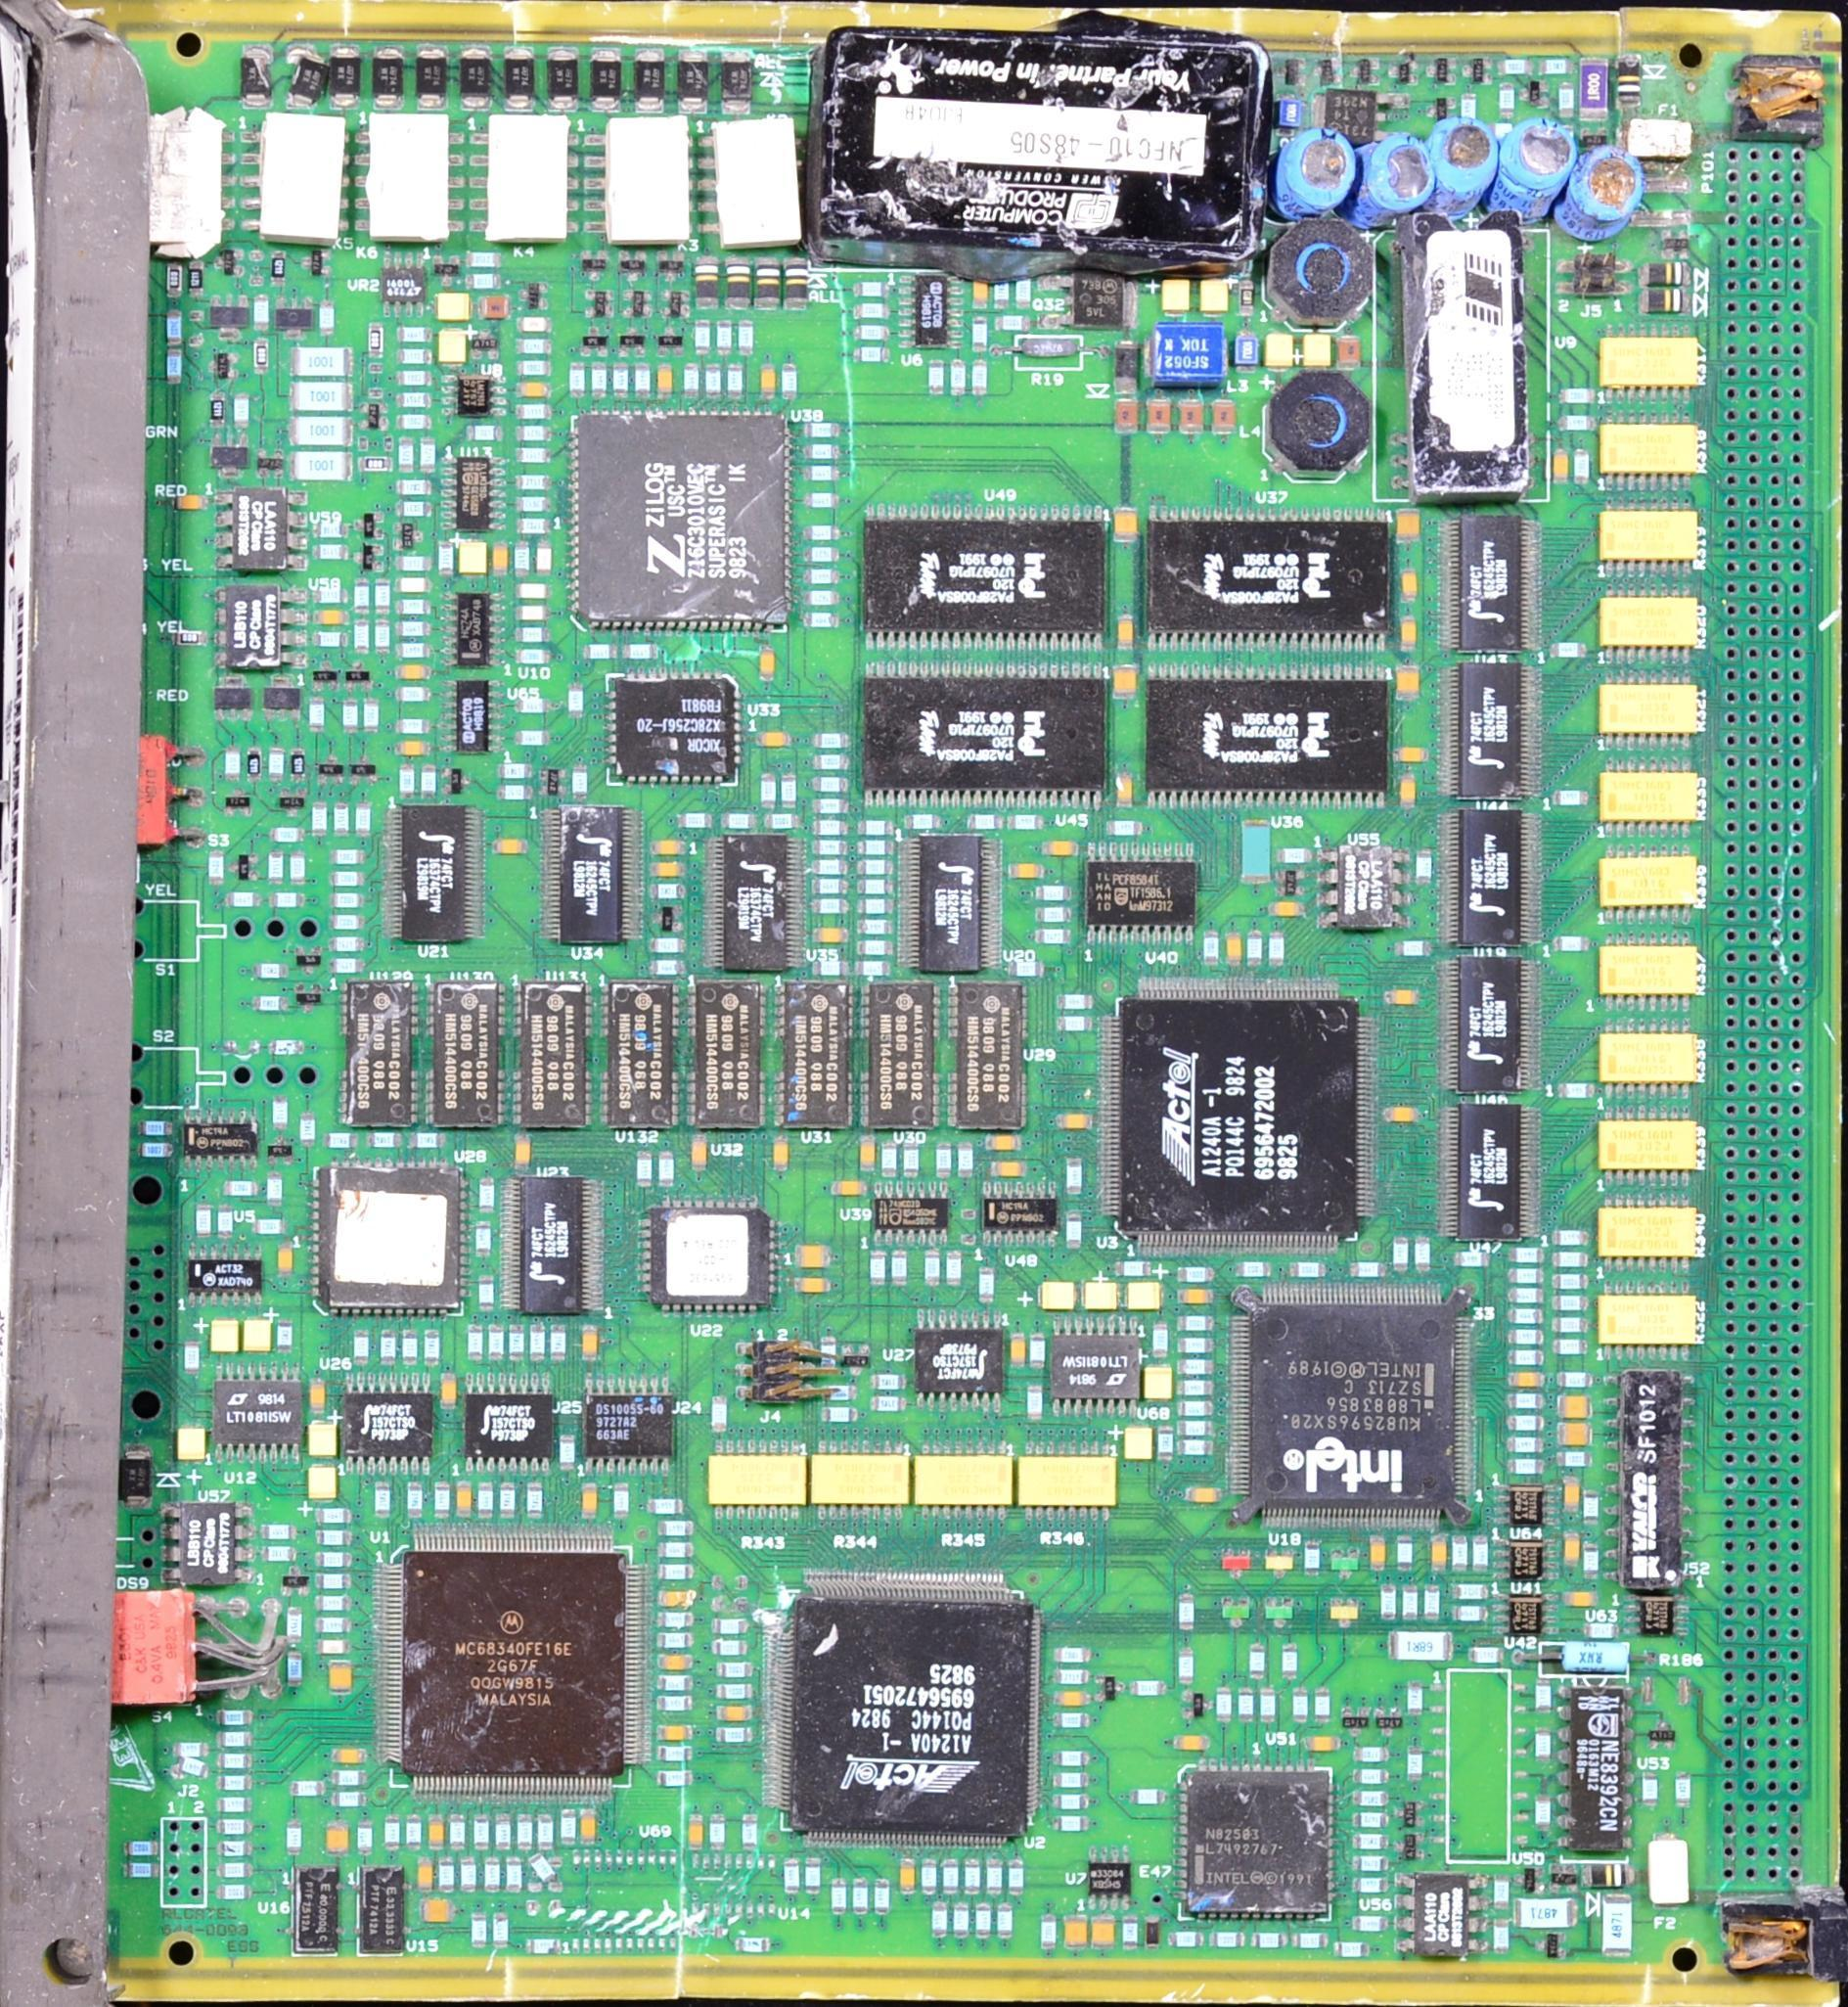Capacitor: (1180, 401, 1200, 431), (1149, 402, 1170, 432), (1065, 1915, 1083, 1948), (1399, 664, 1417, 698), (1114, 510, 1135, 537), (1174, 1285, 1206, 1301), (1402, 570, 1418, 603), (1212, 402, 1229, 432), (1512, 1371, 1540, 1388), (426, 1900, 449, 1919), (1338, 342, 1357, 365), (1093, 1919, 1110, 1945), (1398, 512, 1415, 540), (1562, 1425, 1586, 1443), (308, 1382, 326, 1406), (1118, 670, 1134, 696), (484, 300, 505, 320), (803, 1249, 825, 1265), (1429, 1543, 1448, 1567), (1222, 934, 1237, 961), (1059, 1690, 1084, 1706), (1555, 448, 1566, 479), (279, 1246, 292, 1273), (580, 1330, 594, 1356), (688, 1820, 700, 1846), (1119, 402, 1133, 429), (759, 368, 772, 397), (399, 664, 422, 680), (695, 1137, 706, 1164), (454, 1484, 468, 1512), (1178, 1737, 1207, 1750), (586, 1484, 597, 1516), (1193, 1488, 1218, 1500), (905, 1859, 914, 1894), (1403, 781, 1414, 808), (1391, 1111, 1415, 1123), (1561, 1400, 1584, 1415), (1370, 1540, 1382, 1564), (519, 382, 542, 395), (1403, 622, 1417, 646), (1119, 779, 1134, 799), (777, 1140, 789, 1164), (443, 1377, 455, 1401), (718, 1707, 744, 1718), (498, 842, 523, 852), (988, 1139, 1016, 1150), (180, 495, 202, 509), (762, 652, 773, 680), (837, 1180, 860, 1193), (337, 1666, 347, 1688), (581, 1816, 593, 1839), (330, 1825, 343, 1848), (493, 547, 505, 570), (762, 731, 785, 743), (1574, 1594, 1600, 1605), (1051, 842, 1069, 854), (1059, 1118, 1088, 1127), (1389, 992, 1415, 1004), (1002, 1161, 1022, 1173), (1014, 865, 1039, 876), (818, 929, 838, 940), (431, 1817, 440, 1845), (1013, 1341, 1022, 1364), (337, 1751, 358, 1760), (973, 283, 984, 306), (666, 1657, 685, 1669), (404, 743, 423, 754), (1565, 1488, 1576, 1509), (667, 1590, 690, 1602), (663, 1728, 684, 1738), (860, 1143, 870, 1168), (1308, 1738, 1332, 1747), (419, 1861, 427, 1886), (658, 365, 668, 389), (803, 1279, 822, 1290), (518, 1137, 528, 1160), (1567, 1541, 1576, 1565), (1122, 618, 1131, 642), (1400, 752, 1423, 760), (323, 613, 339, 624), (1277, 906, 1295, 914), (660, 864, 674, 874), (663, 843, 677, 851)
IC: (1117, 1002, 1357, 1239), (799, 1599, 1019, 1835), (400, 1544, 620, 1777), (1248, 1301, 1455, 1512), (576, 417, 782, 623), (1396, 222, 1528, 498), (864, 660, 1104, 790), (1146, 516, 1383, 636), (1151, 678, 1388, 792), (864, 521, 1096, 634), (1188, 1772, 1323, 1910), (321, 1177, 457, 1302), (610, 679, 739, 787), (1623, 1371, 1677, 1585), (947, 982, 1021, 1125), (713, 837, 791, 967), (654, 1215, 758, 1300), (916, 840, 982, 970), (780, 982, 841, 1124), (1452, 1112, 1522, 1232), (693, 981, 752, 1126), (1462, 660, 1521, 801), (863, 986, 924, 1118), (403, 806, 464, 939), (349, 980, 408, 1116), (1457, 964, 1519, 1087), (610, 983, 664, 1126), (441, 983, 494, 1120), (1459, 519, 1517, 643), (562, 810, 621, 934), (1462, 814, 1521, 939), (527, 986, 581, 1126), (523, 1178, 578, 1309), (1576, 1686, 1620, 1840), (1090, 864, 1188, 922), (1051, 1335, 1137, 1396), (917, 1325, 999, 1391), (215, 1381, 296, 1441), (467, 1395, 546, 1456), (176, 1502, 239, 1576), (344, 1394, 422, 1454), (585, 1397, 665, 1454), (1338, 852, 1395, 926), (1416, 1875, 1465, 1953), (236, 493, 286, 567), (232, 592, 280, 663), (293, 1872, 332, 1953), (362, 1873, 400, 1949), (456, 593, 491, 664), (876, 1200, 943, 1232), (457, 685, 489, 750), (921, 274, 951, 341), (460, 456, 485, 525), (455, 376, 493, 414), (986, 1205, 1050, 1228), (1642, 1599, 1675, 1636), (1510, 1540, 1538, 1578), (1091, 1865, 1128, 1894), (1511, 1484, 1540, 1522), (389, 273, 419, 296)
Resistor: (706, 1452, 813, 1504), (1600, 595, 1694, 645), (1599, 427, 1697, 474), (917, 1452, 1011, 1501), (818, 1456, 911, 1506), (1598, 776, 1694, 821), (1602, 684, 1693, 730), (1600, 943, 1692, 990), (1603, 1124, 1692, 1169), (1020, 1459, 1112, 1504), (1600, 1301, 1694, 1343), (1607, 515, 1700, 556), (1600, 342, 1694, 384), (1600, 1037, 1694, 1075), (1600, 864, 1692, 902), (1602, 1209, 1687, 1251), (1240, 826, 1272, 875), (1018, 338, 1069, 361), (1513, 1599, 1536, 1634), (470, 246, 499, 271), (470, 422, 500, 438), (396, 764, 412, 796), (1067, 1158, 1081, 1192), (436, 542, 453, 572), (1179, 1263, 1212, 1278), (472, 1225, 489, 1252), (126, 1842, 154, 1856), (975, 1901, 989, 1934), (519, 627, 547, 643), (1245, 935, 1261, 963), (1161, 1426, 1174, 1462), (493, 1915, 505, 1949), (318, 300, 333, 331), (559, 1439, 575, 1465), (525, 1488, 540, 1514), (517, 1824, 532, 1850), (589, 365, 605, 392), (1267, 935, 1284, 962), (469, 1324, 480, 1357), (532, 1859, 551, 1879), (550, 1326, 563, 1353), (709, 1400, 723, 1429), (1581, 1495, 1595, 1523), (995, 1908, 1009, 1935), (949, 362, 963, 390), (725, 812, 754, 827), (969, 815, 996, 828), (1558, 87, 1573, 112), (479, 1178, 491, 1209), (1070, 1215, 1083, 1246), (476, 1488, 493, 1512), (719, 1638, 743, 1654), (971, 317, 984, 347), (721, 367, 737, 391), (654, 882, 678, 896), (1240, 1261, 1265, 1275), (1560, 1319, 1580, 1337), (1179, 1655, 1192, 1680), (1675, 1775, 1689, 1801), (804, 1863, 818, 1890), (615, 364, 627, 393), (394, 687, 426, 699), (421, 763, 434, 794), (574, 767, 585, 797), (1416, 850, 1428, 880), (1556, 939, 1586, 951), (1065, 990, 1087, 1006), (372, 1131, 394, 1147), (880, 1146, 894, 1173), (1561, 1453, 1589, 1466), (433, 1486, 447, 1510), (1425, 1591, 1439, 1615), (1181, 1597, 1193, 1624), (1281, 1649, 1293, 1672), (1356, 1745, 1380, 1758), (660, 1745, 685, 1759), (448, 1819, 462, 1845), (964, 1863, 976, 1892), (1495, 1879, 1507, 1908), (253, 296, 266, 326), (976, 364, 987, 391), (510, 543, 523, 572), (581, 647, 608, 659), (518, 698, 544, 711), (344, 702, 356, 729), (313, 802, 325, 831), (764, 815, 792, 827), (819, 823, 842, 837), (856, 964, 884, 976), (1006, 313, 1024, 330), (1285, 848, 1305, 865), (835, 1884, 846, 1914), (1496, 1923, 1507, 1954), (197, 1209, 208, 1237), (1415, 1240, 1427, 1265), (409, 1486, 421, 1513), (1472, 1542, 1485, 1568), (722, 1665, 748, 1677), (745, 1818, 757, 1844), (560, 1818, 572, 1844), (943, 1861, 954, 1889), (873, 1881, 884, 1907), (473, 1914, 485, 1941), (739, 1936, 764, 1948), (1038, 908, 1064, 919), (274, 1039, 296, 1052), (1559, 1375, 1583, 1388), (1135, 1682, 1157, 1696), (1061, 1753, 1084, 1765), (810, 423, 832, 436), (640, 1156, 650, 1185), (510, 1325, 520, 1354), (490, 1328, 500, 1358), (168, 311, 179, 342), (1106, 823, 1137, 835), (1562, 1086, 1587, 1098), (955, 1147, 968, 1171), (925, 1256, 937, 1281), (717, 1618, 741, 1629), (1262, 1691, 1275, 1715), (473, 1819, 486, 1844), (933, 1906, 946, 1931), (1575, 455, 1587, 479), (267, 751, 280, 775), (907, 1144, 918, 1171), (938, 1146, 949, 1173), (278, 1320, 288, 1347), (1183, 1404, 1211, 1414), (1306, 1546, 1320, 1567), (1588, 1624, 1615, 1635), (222, 1781, 250, 1792), (924, 1863, 936, 1892), (988, 1864, 999, 1892), (955, 1903, 966, 1932), (715, 327, 730, 348), (622, 646, 651, 656), (1555, 793, 1585, 802), (1403, 941, 1422, 955), (326, 1134, 347, 1147), (658, 1159, 672, 1182), (870, 1256, 881, 1279), (1354, 1264, 1376, 1276), (1186, 1316, 1208, 1329), (380, 1488, 392, 1510), (1460, 1584, 1482, 1596), (1218, 1694, 1231, 1716), (130, 1864, 152, 1876), (471, 274, 493, 287), (318, 522, 341, 533), (1553, 641, 1576, 654), (821, 778, 842, 790), (333, 807, 344, 830), (680, 815, 703, 827), (654, 959, 676, 972), (1554, 1232, 1581, 1244), (1399, 1237, 1408, 1268), (1556, 1254, 1583, 1264), (407, 1814, 418, 1842), (1177, 1934, 1203, 1944), (534, 545, 545, 572), (360, 619, 369, 650), (569, 690, 580, 716), (764, 779, 775, 806), (260, 998, 280, 1013), (1517, 1350, 1536, 1364), (519, 581, 539, 595), (325, 631, 344, 645), (867, 939, 886, 953), (221, 1210, 230, 1239), (519, 323, 550, 332), (685, 368, 695, 396), (892, 1256, 903, 1281), (878, 1376, 898, 1388), (1513, 1463, 1538, 1474), (503, 1488, 514, 1513), (664, 1545, 685, 1557), (384, 1820, 397, 1842), (359, 1828, 370, 1849), (1356, 1837, 1380, 1848), (786, 1863, 796, 1889), (1010, 1868, 1020, 1890), (533, 1941, 555, 1953), (403, 330, 428, 342), (521, 477, 546, 487), (523, 502, 544, 515), (312, 702, 322, 725), (398, 722, 420, 734), (818, 737, 842, 747), (820, 803, 844, 815), (1013, 815, 1036, 826), (1044, 930, 1065, 942), (654, 941, 674, 953), (232, 1756, 248, 1770), (508, 765, 522, 781), (226, 1711, 244, 1723), (709, 1820, 719, 1847), (864, 326, 881, 339), (695, 330, 708, 348), (407, 369, 426, 383), (931, 364, 941, 392), (786, 368, 793, 394), (870, 843, 886, 856), (276, 1102, 287, 1124), (410, 1136, 432, 1147), (380, 1335, 389, 1357), (186, 1345, 196, 1368), (1059, 1649, 1082, 1660), (720, 1688, 744, 1699), (1293, 1694, 1304, 1717), (1360, 1859, 1382, 1868), (461, 1863, 473, 1886), (442, 1864, 453, 1886), (1300, 1936, 1323, 1945), (1017, 283, 1027, 306), (737, 323, 746, 346), (274, 828, 296, 839), (1043, 887, 1065, 896), (273, 894, 295, 906), (1503, 86, 1511, 109), (1299, 1262, 1318, 1275), (1517, 1333, 1536, 1345), (1186, 1363, 1205, 1376), (1517, 1420, 1537, 1432), (273, 1548, 293, 1559), (1477, 1651, 1497, 1663), (1063, 1670, 1083, 1681), (229, 1737, 248, 1751), (660, 1775, 681, 1787), (1139, 1789, 1157, 1802), (1060, 1796, 1081, 1807), (227, 1800, 247, 1811), (226, 1843, 245, 1854), (813, 525, 833, 539), (823, 885, 842, 897), (339, 918, 359, 930), (172, 347, 178, 382), (532, 1327, 541, 1352), (1031, 1388, 1040, 1415), (1253, 1651, 1263, 1676), (498, 1822, 508, 1847), (379, 583, 388, 610), (291, 857, 299, 883), (1060, 1018, 1083, 1027), (1462, 1254, 1483, 1264), (1118, 1264, 1141, 1274), (830, 1409, 846, 1423), (1186, 1444, 1207, 1454), (271, 1526, 292, 1537), (1125, 1923, 1135, 1943), (1340, 1942, 1362, 1952), (405, 350, 427, 360), (404, 558, 425, 568), (915, 818, 935, 828), (334, 851, 355, 861), (338, 895, 361, 906), (338, 938, 360, 949), (303, 1117, 311, 1142), (569, 366, 579, 390), (237, 399, 246, 424), (1566, 416, 1592, 425), (808, 466, 826, 477), (1544, 62, 1568, 70), (365, 703, 374, 728), (227, 753, 236, 776), (783, 778, 792, 802), (336, 959, 353, 972), (1155, 1326, 1163, 1354), (232, 1183, 251, 1194), (1515, 1251, 1535, 1260), (1516, 1271, 1535, 1282), (1186, 1339, 1205, 1349), (617, 1489, 627, 1509), (668, 1527, 687, 1536), (226, 1864, 245, 1874), (1259, 1936, 1278, 1945), (523, 454, 542, 465), (525, 521, 543, 532), (524, 651, 543, 661), (1506, 63, 1524, 73), (506, 789, 525, 799), (864, 823, 882, 834), (822, 862, 841, 873), (480, 1278, 490, 1301), (1412, 1685, 1420, 1709), (1409, 1753, 1418, 1775), (1360, 1921, 1382, 1931), (424, 445, 432, 468), (521, 609, 543, 617), (406, 646, 428, 654), (1203, 935, 1212, 958), (407, 1334, 415, 1361), (510, 1864, 518, 1892), (271, 855, 279, 884), (871, 899, 884, 912), (326, 1533, 341, 1546), (325, 1555, 340, 1567), (326, 1597, 340, 1608), (668, 1677, 683, 1688), (1219, 1934, 1235, 1945), (817, 446, 833, 458), (270, 1172, 276, 1200), (1559, 1299, 1577, 1309), (1030, 1341, 1039, 1361), (825, 1344, 834, 1366), (1515, 1439, 1534, 1449), (325, 1514, 346, 1524), (1456, 1543, 1465, 1565), (663, 1615, 684, 1624), (725, 1729, 743, 1740), (1540, 1732, 1549, 1754), (1647, 1780, 1656, 1802), (1540, 1803, 1551, 1821), (1362, 1812, 1379, 1823), (491, 1863, 498, 1890), (860, 288, 881, 296), (997, 285, 1005, 305), (1563, 392, 1585, 400), (403, 443, 411, 470), (811, 496, 832, 506), (318, 545, 337, 557), (404, 580, 421, 591), (819, 846, 838, 854), (949, 1254, 956, 1280), (356, 1336, 364, 1360), (835, 1386, 849, 1399), (300, 1781, 314, 1794), (229, 1884, 244, 1894), (857, 1884, 864, 1908), (865, 347, 879, 362), (818, 572, 833, 584), (869, 882, 882, 893), (256, 1223, 276, 1232), (1559, 1344, 1579, 1353), (1517, 1398, 1536, 1408), (666, 1566, 686, 1575), (1460, 1610, 1479, 1619), (665, 1634, 683, 1643), (1316, 1697, 1326, 1717), (360, 585, 369, 606), (404, 599, 423, 609), (521, 735, 540, 744), (1515, 1292, 1532, 1302), (655, 1502, 672, 1512), (1401, 1543, 1411, 1560), (327, 1622, 342, 1632), (1062, 1777, 1078, 1786), (816, 551, 832, 562), (982, 1272, 989, 1295), (1183, 1386, 1206, 1393), (1183, 1425, 1206, 1433), (1384, 1590, 1391, 1614), (1404, 1592, 1411, 1615), (290, 1612, 297, 1634), (180, 1746, 203, 1754), (540, 1824, 548, 1847), (293, 1825, 299, 1848), (359, 805, 365, 829), (431, 1332, 437, 1362), (707, 367, 713, 396), (1465, 100, 1474, 116), (323, 1642, 341, 1651), (1364, 1772, 1381, 1782), (1062, 1821, 1080, 1831), (223, 1823, 241, 1832), (526, 407, 544, 417), (189, 1762, 201, 1774), (1564, 1277, 1578, 1287), (1589, 1547, 1594, 1575), (325, 1577, 339, 1587), (1540, 1688, 1547, 1710), (342, 1772, 356, 1784), (1362, 1882, 1382, 1889), (1044, 1919, 1051, 1941), (529, 345, 544, 356), (639, 368, 644, 395), (409, 395, 424, 406), (406, 625, 420, 636), (211, 856, 219, 878), (1015, 964, 1036, 971), (262, 968, 276, 979), (1064, 1716, 1080, 1726), (1366, 1794, 1381, 1802), (866, 306, 881, 314), (816, 615, 833, 623), (825, 904, 840, 912), (870, 924, 884, 933), (1517, 1312, 1536, 1320), (405, 482, 426, 490), (408, 507, 427, 514), (381, 623, 386, 648), (1242, 1694, 1250, 1711), (341, 1795, 355, 1803), (405, 419, 423, 427), (323, 592, 338, 601), (813, 595, 828, 604), (870, 862, 883, 871), (237, 896, 254, 904), (820, 961, 834, 971), (662, 1701, 683, 1707), (823, 758, 838, 766), (339, 875, 354, 881), (528, 430, 541, 439), (524, 367, 539, 375), (884, 1398, 896, 1406)
